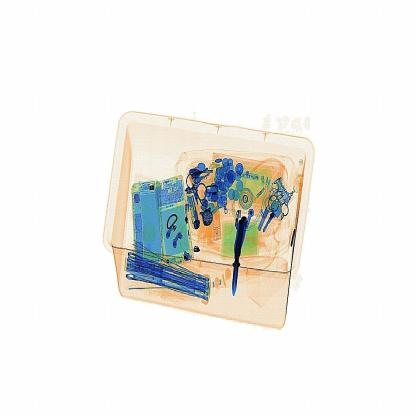gun: (226, 209, 252, 306)
